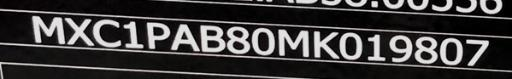letter: (30, 13, 66, 46), (274, 30, 312, 61), (92, 16, 124, 49), (64, 15, 94, 48), (246, 28, 276, 59), (460, 38, 490, 69), (172, 24, 200, 57), (310, 31, 338, 64), (140, 23, 170, 52), (384, 35, 414, 64), (222, 26, 248, 59), (336, 33, 364, 62), (198, 24, 224, 53), (120, 19, 142, 52), (362, 33, 384, 66), (412, 36, 438, 63), (436, 37, 460, 66)
